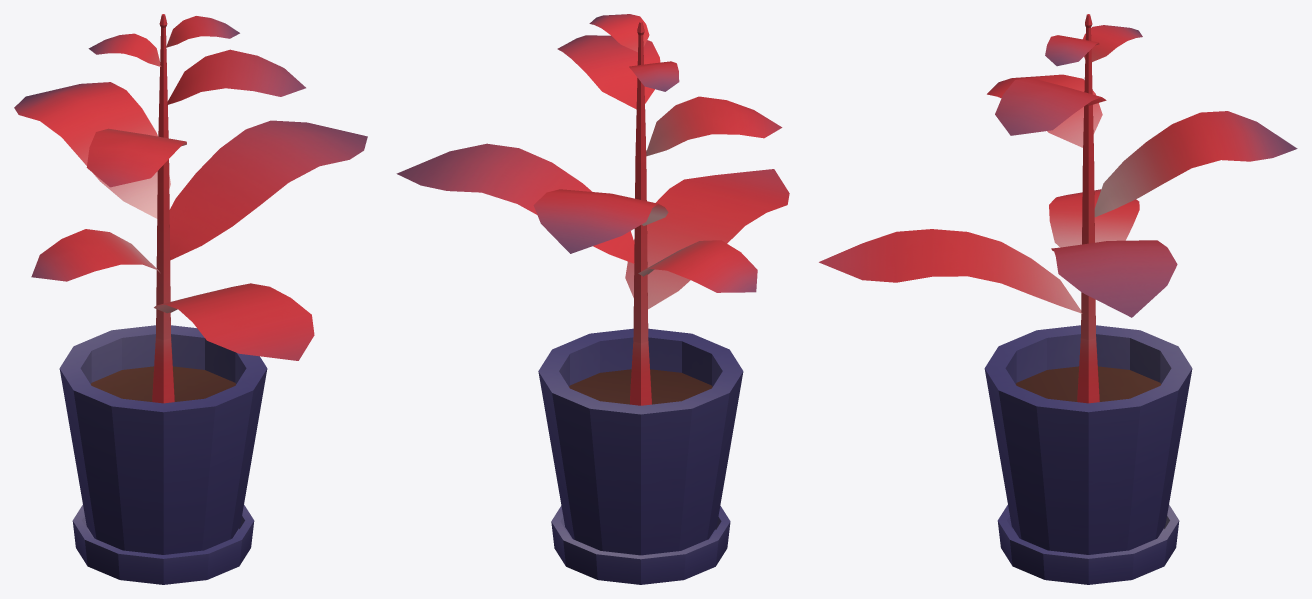
Rendered from plant_regularPlant.fbx.
The picture shows the model from 3 angles, left to right: view 1: azimuth 30°, elevation 25°; view 2: azimuth 150°, elevation 25°; view 3: azimuth 270°, elevation 25°; orthographic projection.
Visible parts, largest first — view 1: plant, pot, plate; view 2: plant, pot, plate; view 3: plant, pot, plate.
Boxes of the visible parts, box(x1,y1,x2,y2) form: plant: box(14, 14, 367, 403); pot: box(59, 325, 267, 554); plate: box(72, 505, 254, 584); plant: box(396, 14, 789, 405); pot: box(538, 328, 743, 555); plate: box(551, 505, 730, 584); plant: box(819, 14, 1297, 403); pot: box(984, 325, 1192, 554); plate: box(997, 504, 1179, 584).
Size of the model in its own units: 31.21 by 45.34 by 36.95.
